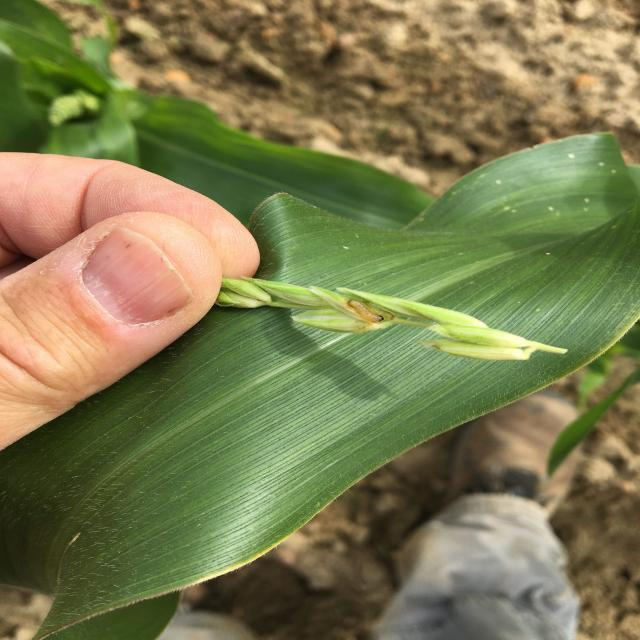cornborer-Larva-: (336, 297, 390, 327)
